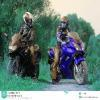motorcycles: (46, 36, 89, 84), (6, 34, 40, 80)
